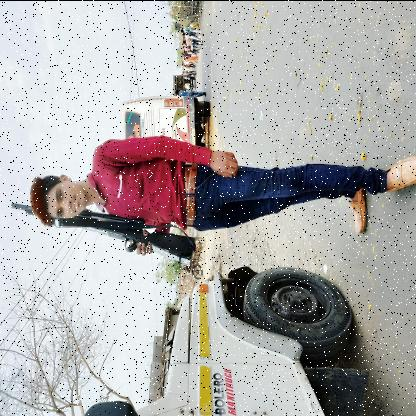rifle: (10, 200, 198, 268)
